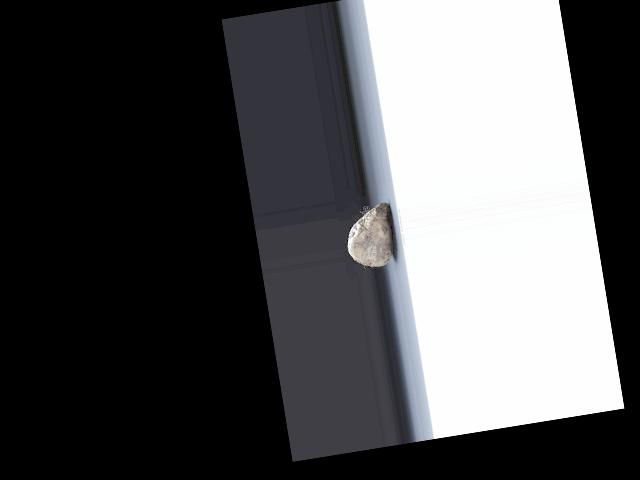beet: (342, 203, 398, 272)
